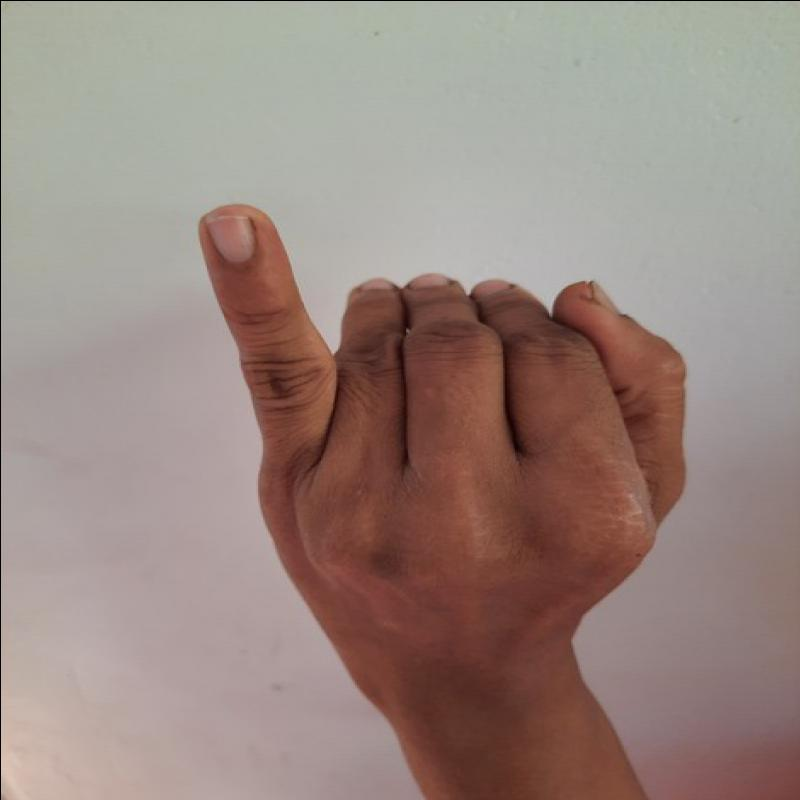Kartharee Mukham: (185, 192, 702, 679)
